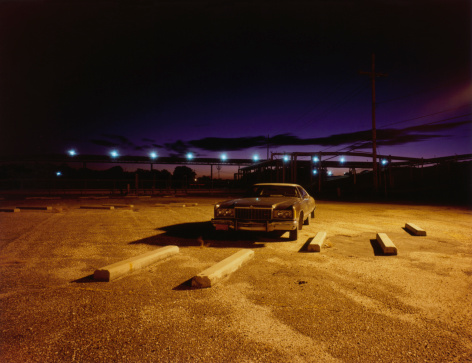car: (205, 179, 328, 248)
